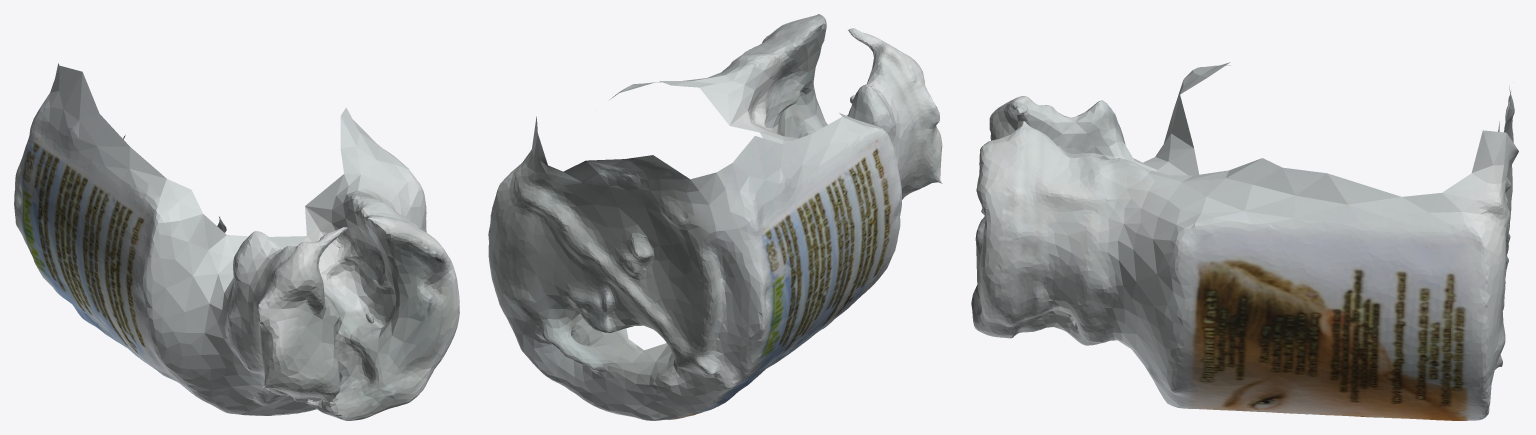
The model's file is MedicineBottle.glb.
The picture shows the model from 3 angles, left to right: view 1: azimuth 30°, elevation 25°; view 2: azimuth 150°, elevation 25°; view 3: azimuth 270°, elevation 25°; orthographic projection. The views are drawn at different scales.
Bounding box in the file's own units: 0.06 × 0.0587 × 0.0879.
Materials: 1 (1 with a texture image).
